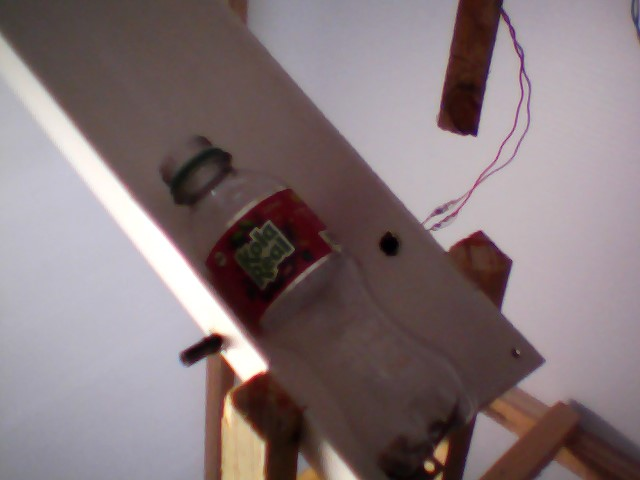plastico: (149, 131, 489, 480)
